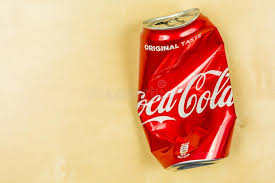coke: (136, 74, 246, 133)
